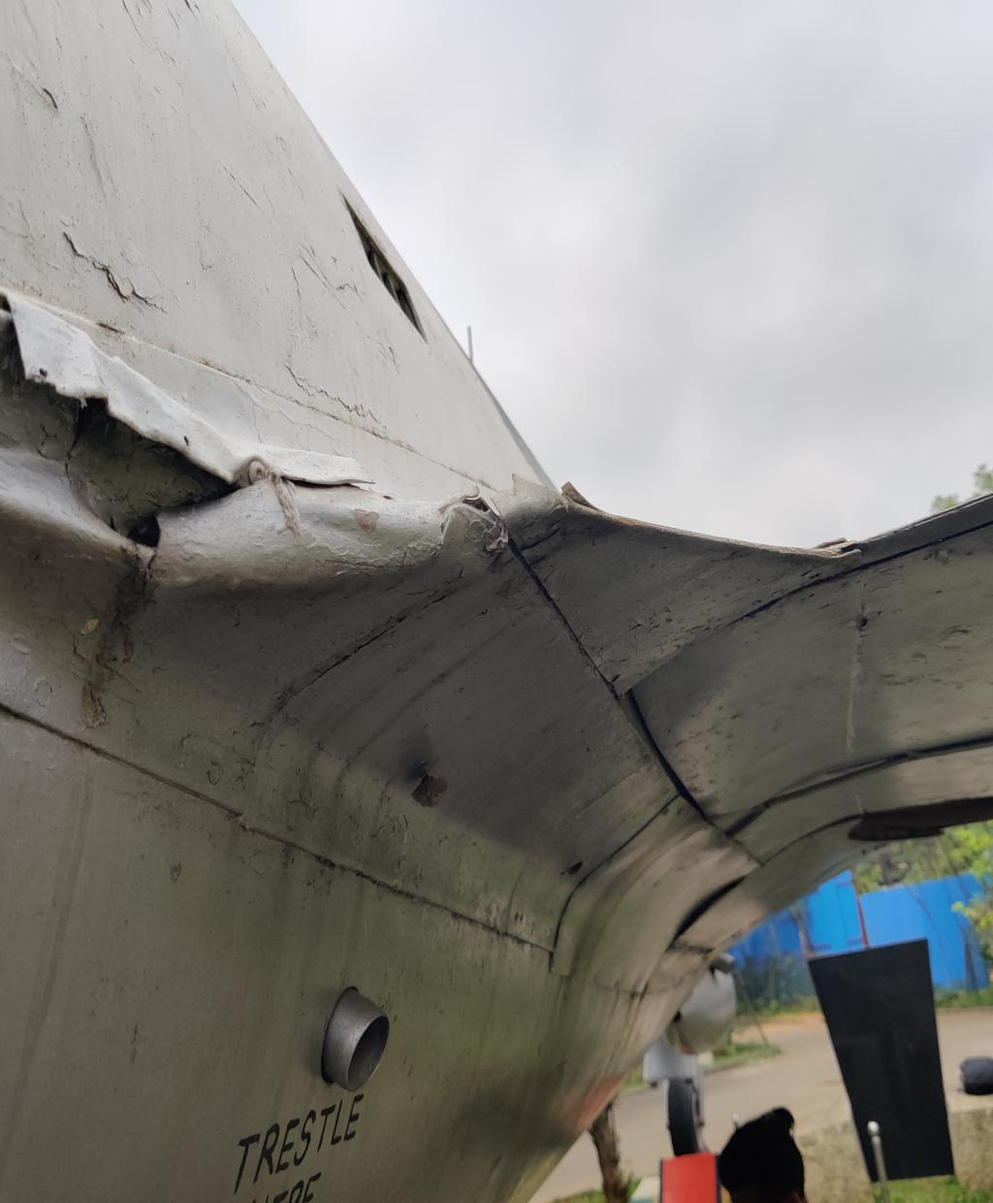crack: (516, 461, 619, 541), (437, 461, 506, 545)
